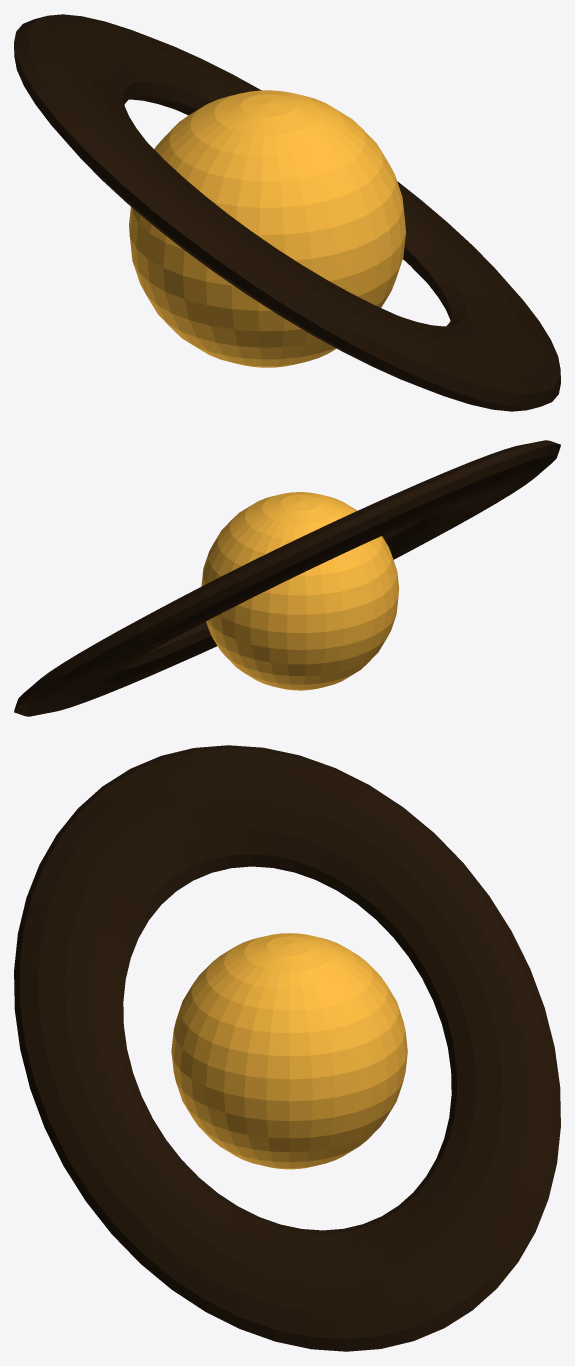
Rendered from ดาวเสาร์.obj.
3 views of the same model, one above another, from view 1: azimuth 30°, elevation 25°; view 2: azimuth 150°, elevation 25°; view 3: azimuth 270°, elevation 25° (orthographic). The views are drawn at different scales.
Parts seen in each view (by area): view 1: Torus, Sphere; view 2: Torus, Sphere; view 3: Torus, Sphere.
Part boxes in pixels (x1=…): Torus: x1=14, y1=14, x2=560, y2=411; Sphere: x1=129, y1=90, x2=405, y2=367; Torus: x1=14, y1=440, x2=560, y2=716; Sphere: x1=201, y1=492, x2=399, y2=690; Torus: x1=14, y1=745, x2=560, y2=1351; Sphere: x1=171, y1=933, x2=407, y2=1169.
Size of the model in its own units: 4.84 by 3.5 by 4.63.
